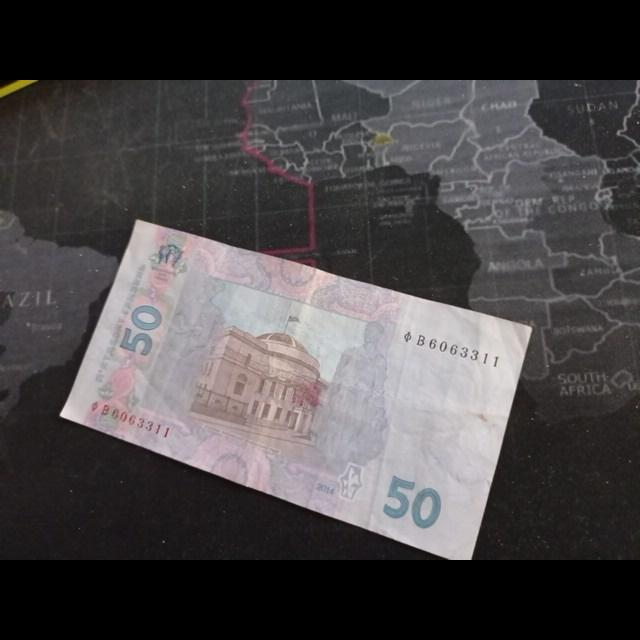50uah: (58, 222, 535, 560)
